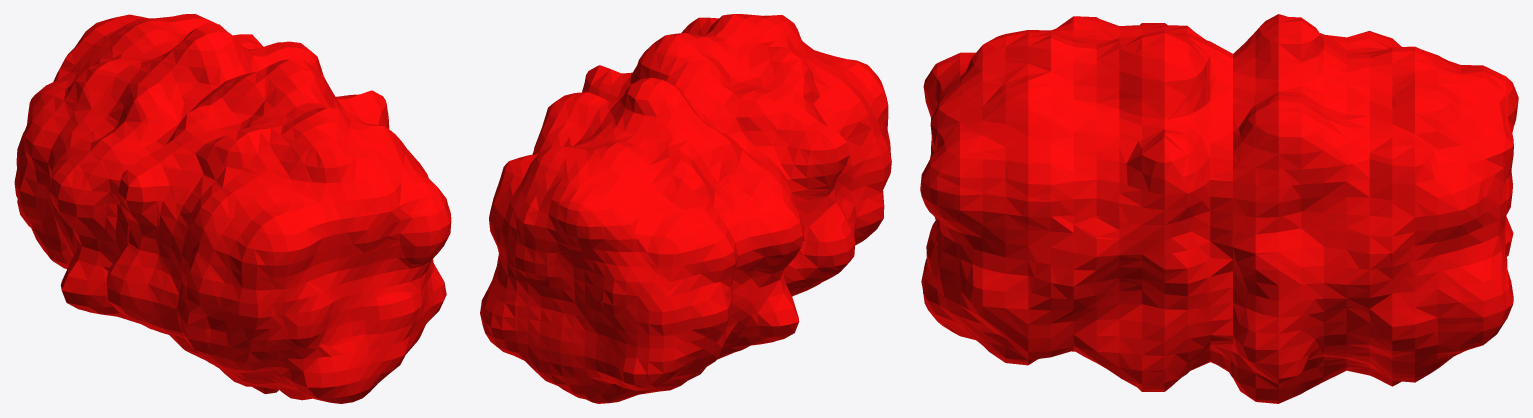
Rendered from dcd_coarse.dae.
The picture shows the model from 3 angles, left to right: view 1: azimuth 30°, elevation 25°; view 2: azimuth 150°, elevation 25°; view 3: azimuth 270°, elevation 25°; orthographic projection. The views are drawn at different scales.
Parts seen in each view (by area): view 1: dcd; view 2: dcd; view 3: dcd.
Boxes of the visible parts, x1,y1,x2,y2 form: dcd: [14, 14, 451, 403]; dcd: [480, 14, 891, 403]; dcd: [920, 14, 1518, 403].
Size of the model in its own units: 62.65 by 67.4 by 98.24.
